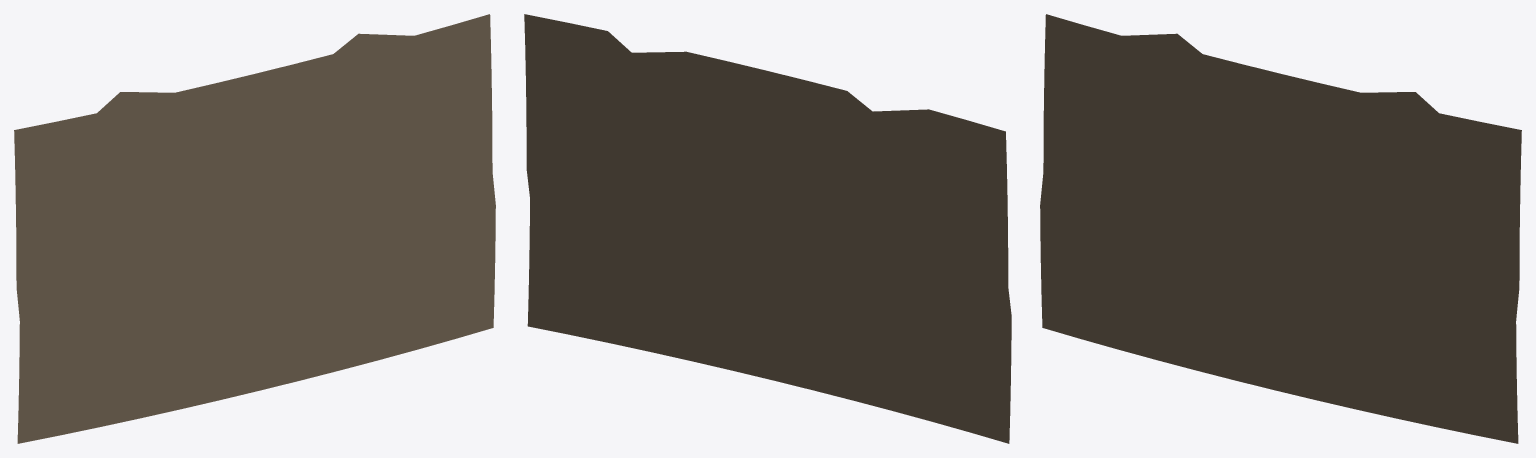
The model's file is beard.glb.
The picture shows the model from 3 angles, left to right: view 1: azimuth 30°, elevation 25°; view 2: azimuth 150°, elevation 25°; view 3: azimuth 330°, elevation 25°; orthographic projection.
Parts seen in each view (by area): view 1: facial-hair_beard; view 2: facial-hair_beard; view 3: facial-hair_beard.
Boxes of the visible parts, box(x1,y1,x2,y2) form: facial-hair_beard: box(14, 14, 495, 443); facial-hair_beard: box(524, 14, 1011, 443); facial-hair_beard: box(1040, 14, 1521, 443).
Size of the model in its own units: 0.4 by 0.25 by 0.0351.
